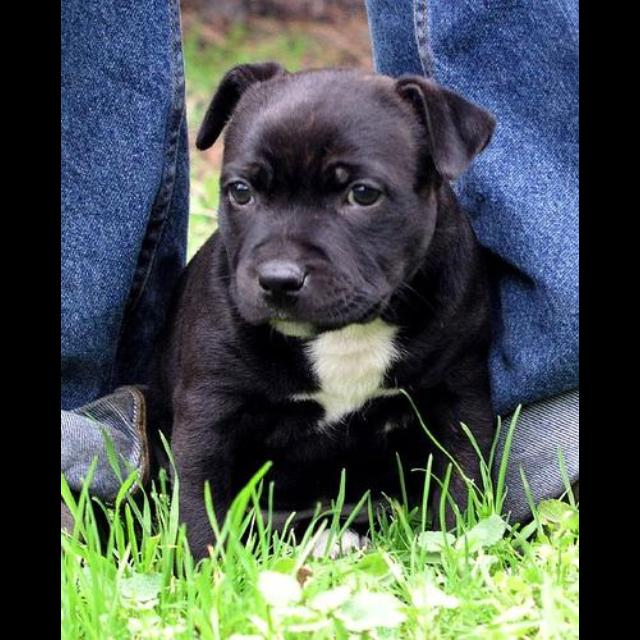staffford: (157, 59, 507, 569)
